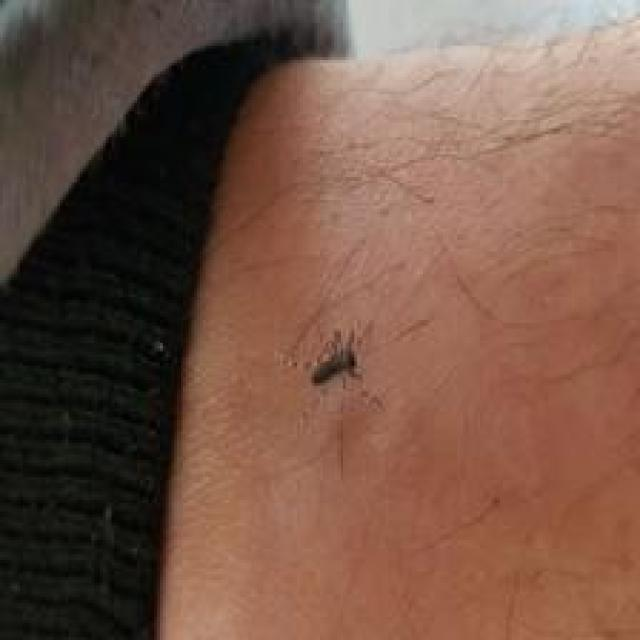Aedes albopictus: (308, 327, 363, 390)
